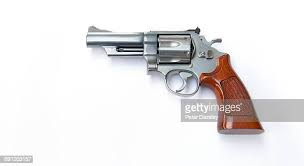gun: (85, 25, 265, 137)
